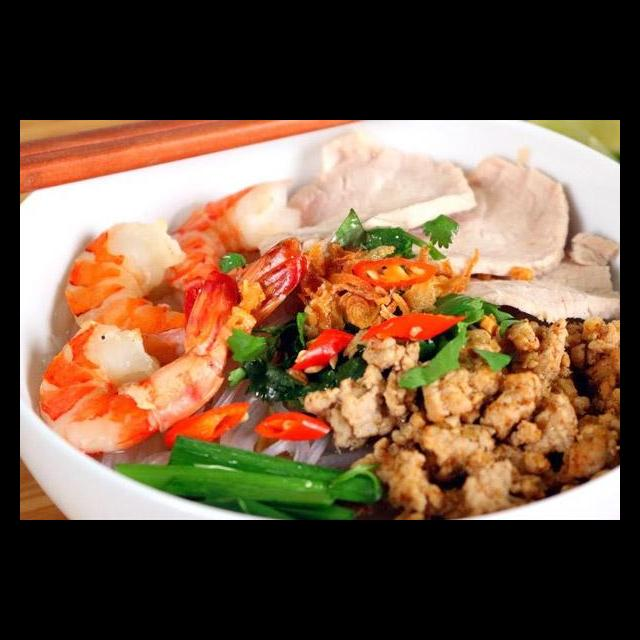banh hu tieu: (202, 359, 378, 474)
hu tieu: (23, 157, 620, 516)
thit bam: (301, 301, 620, 520)
thit heo: (257, 125, 483, 258), (386, 146, 580, 278), (445, 227, 620, 329)
tom: (33, 266, 246, 462), (57, 210, 312, 371), (151, 172, 313, 312)
